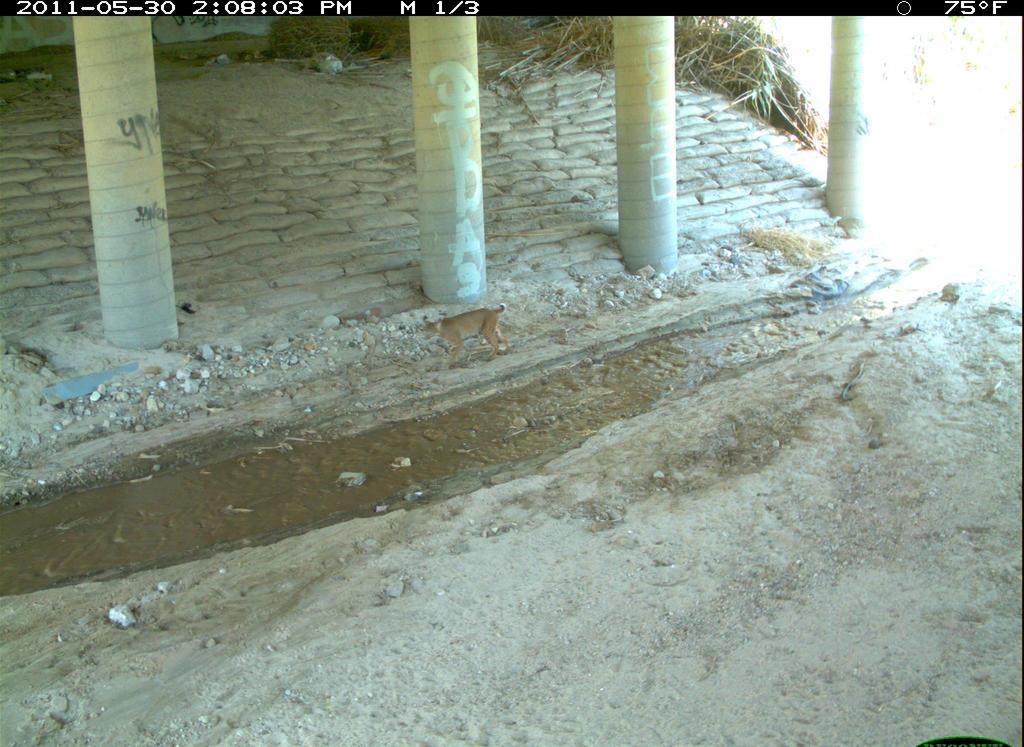bobcat: (838, 582, 1024, 747)
